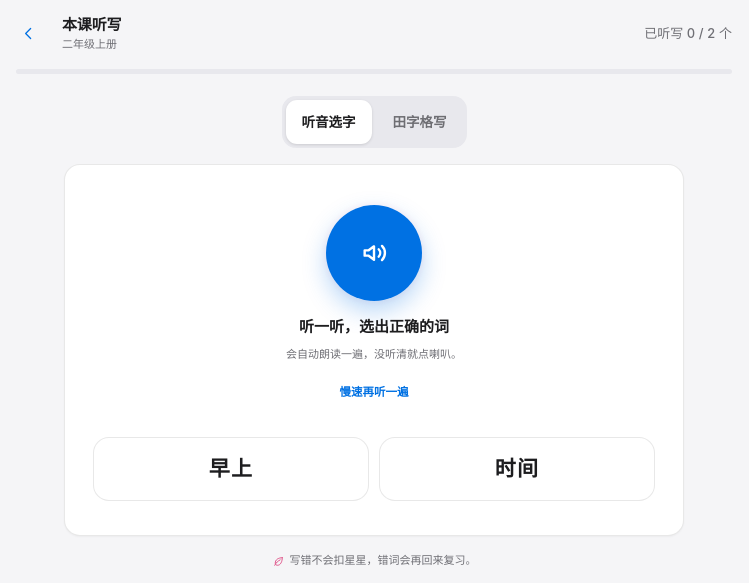
听写页语音降级与恢复（docs/06 §3.12 验收④） › 引擎假死：连续两次朗读失败退回拼音降级，可「再试一次」恢复喇叭
This screenshot has width=749, height=583.
expect the text "这台设备暂时不能朗读" is not shown: met
# 第二次尝试（手动点喇叭）仍失败 → 整页退回拼音降级
Click the button named "再听一遍". click: (374, 253)
box: x1=326 y1=205 x2=422 y2=301
Wait 4600 ms
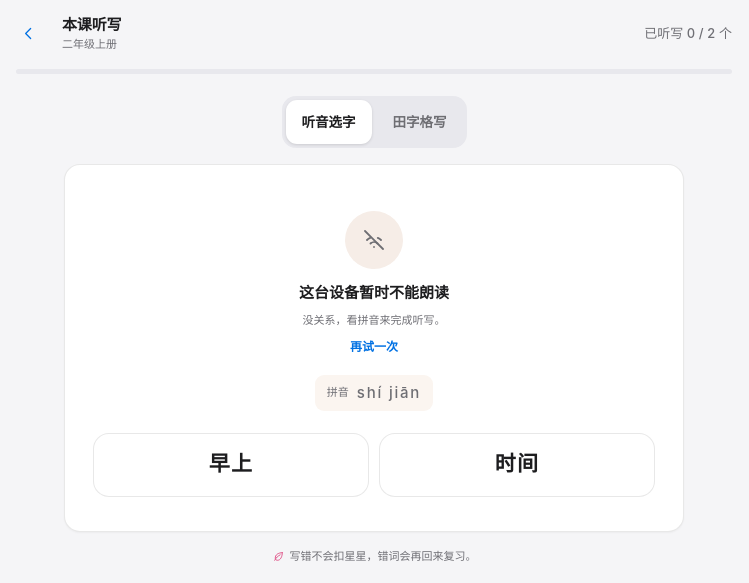
expect the text "这台设备暂时不能朗读" is shown: met, box x1=299 y1=281 x2=449 y2=304
expect the button "再试一次" is shown: met
Click the button "再试一次". click: (374, 347)
box: x1=340 y1=325 x2=408 y2=369
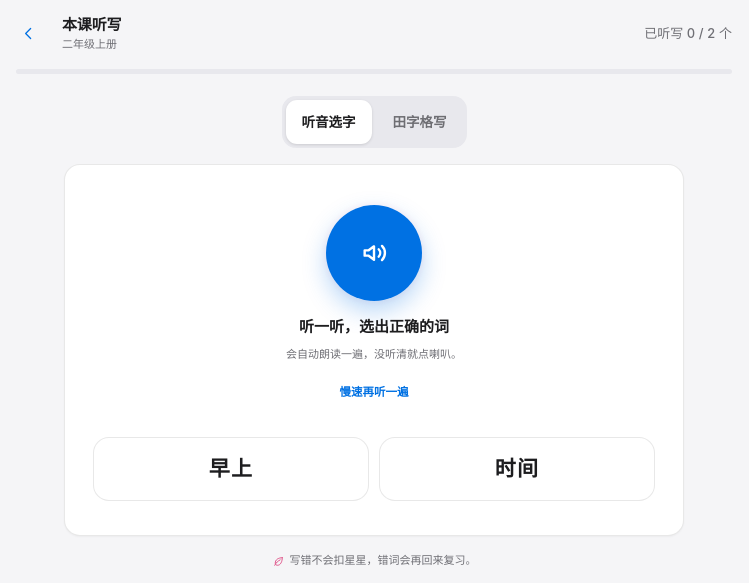
expect the button named "再听一遍" is shown: met, box x1=326 y1=205 x2=422 y2=301
expect the button "再试一次" is gone: met
